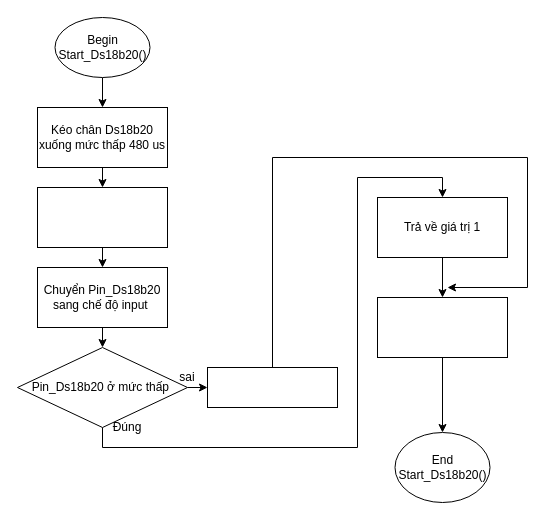
The diagram is 553 pixels wide and 520 high, and some of its shapes have lost their labels. The shapes that lost their labels are listed below. From the top down, each one's centre as x and y in pixels, then its label:
[102,217]: delay 60 us
[442,327]: delay 420 us
[272,387]: Trả về giá trị -1
